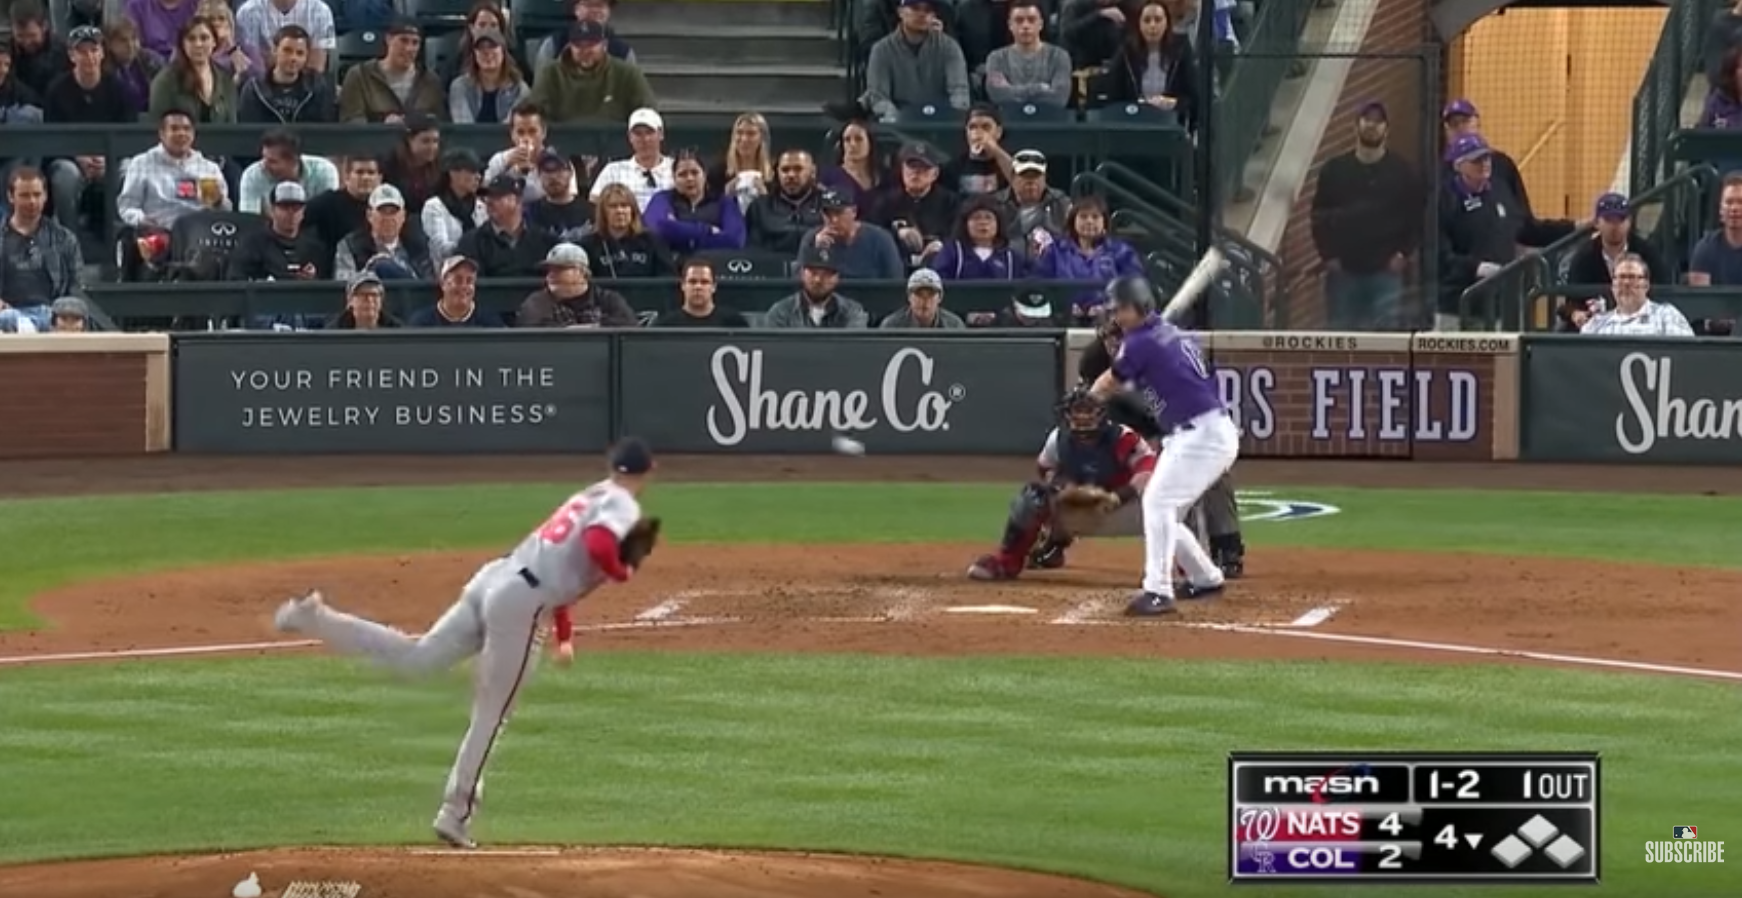ball: (835, 432, 866, 457)
